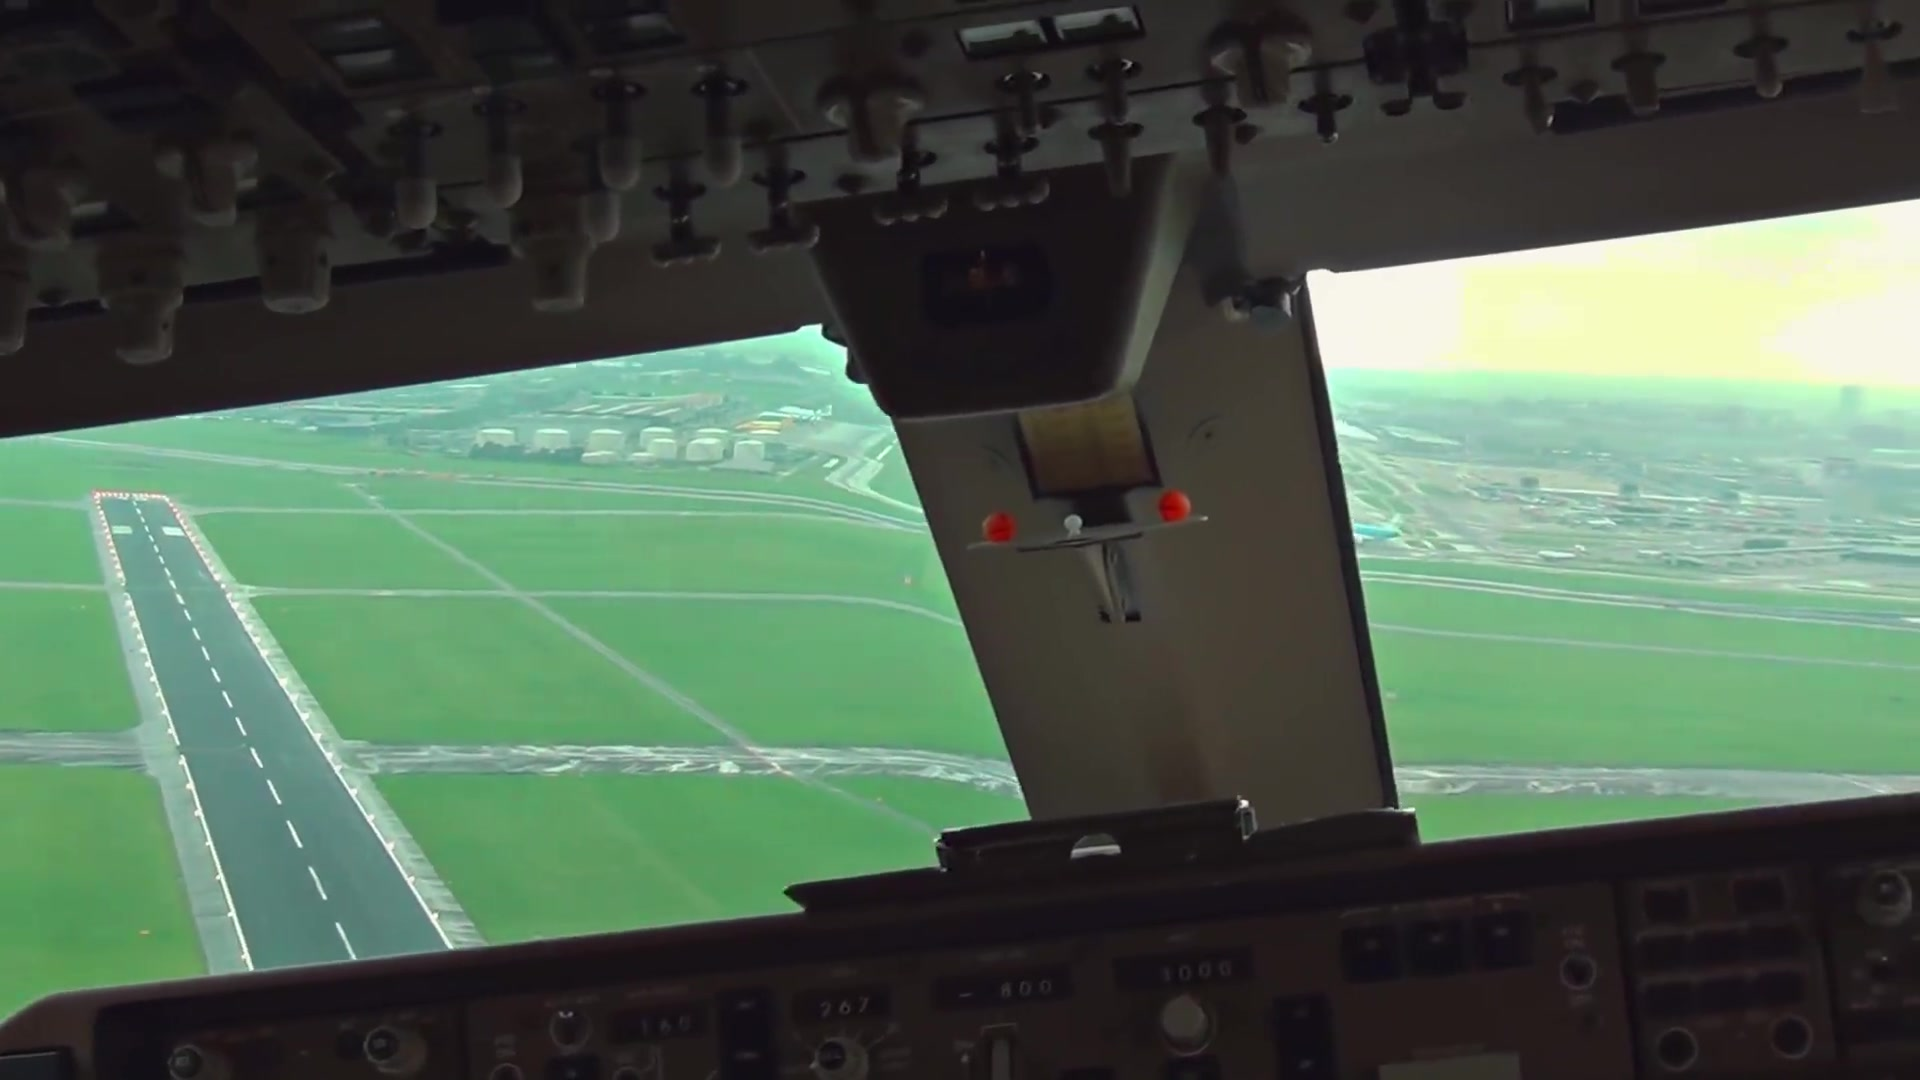entrance: (99, 491, 187, 509)
runway: (84, 487, 463, 975)
